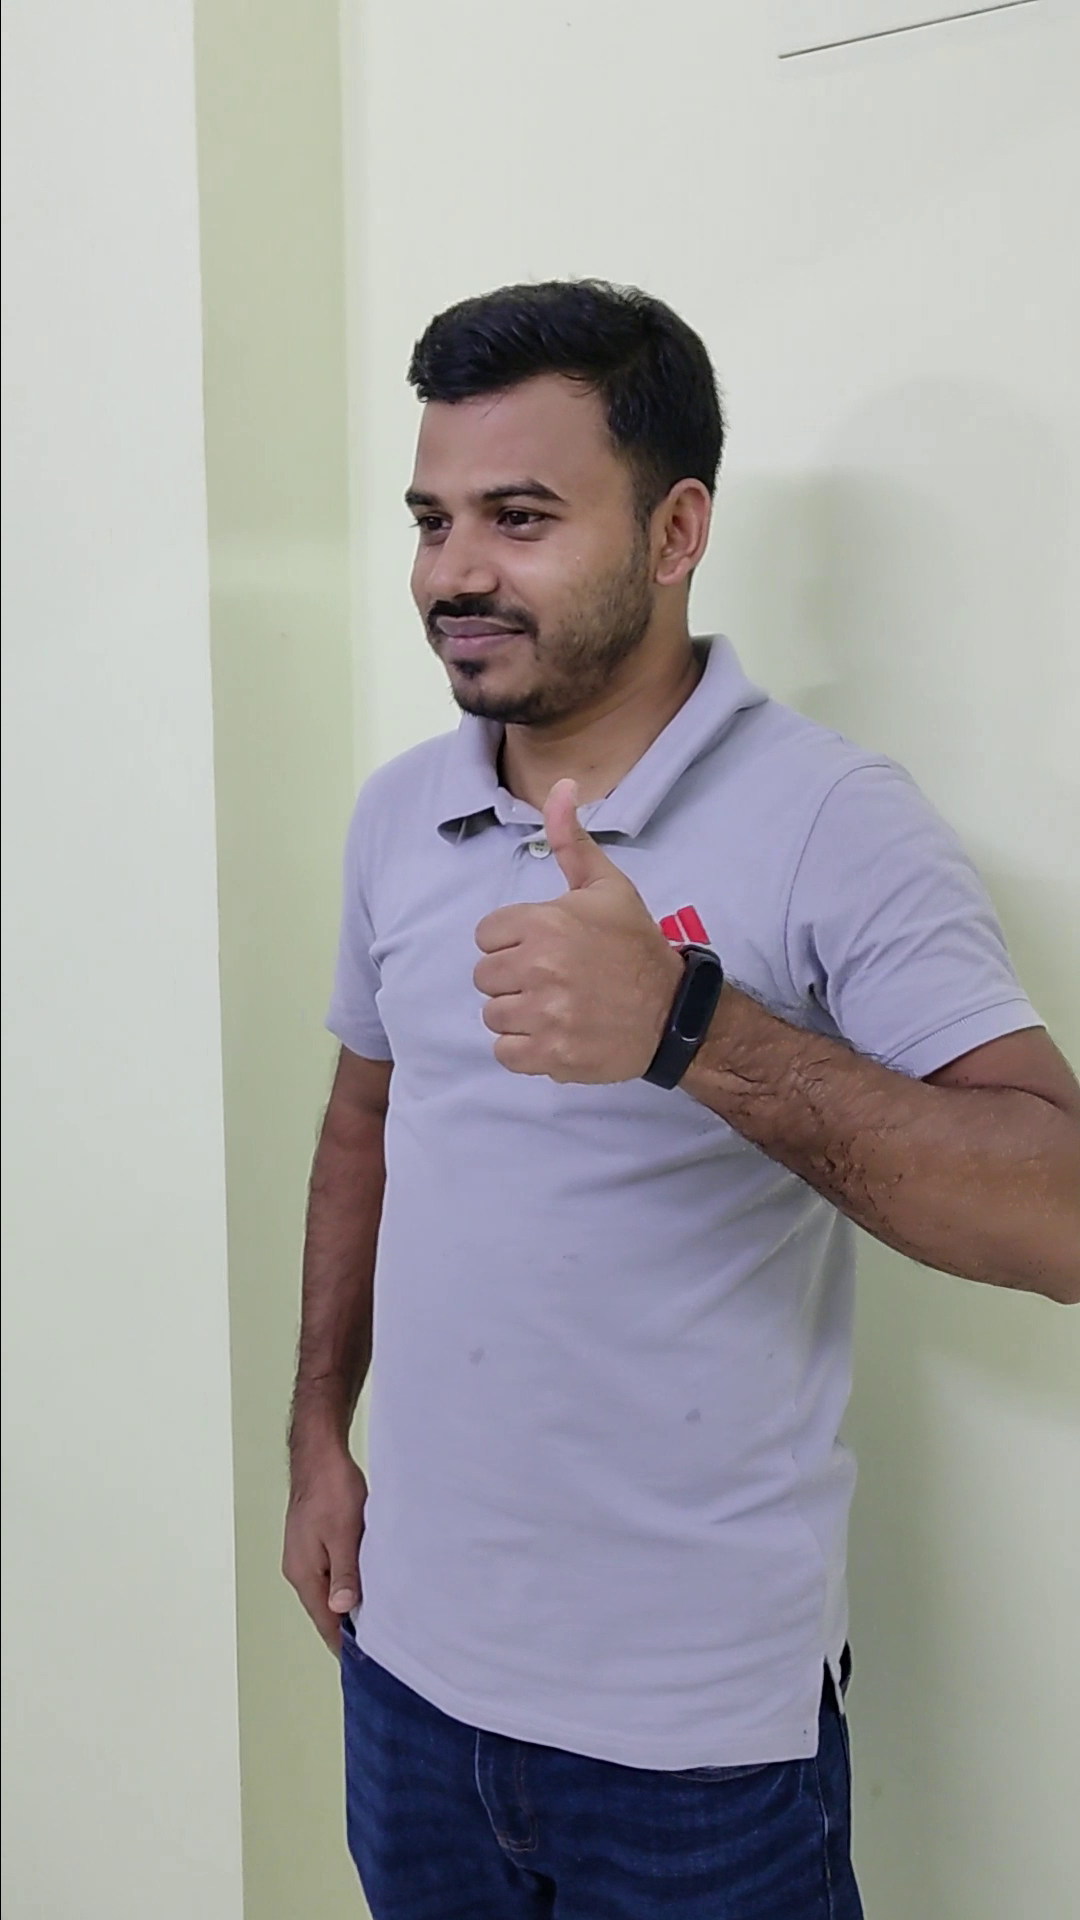Like: (447, 762, 702, 1100)
None: (252, 1382, 400, 1675)
